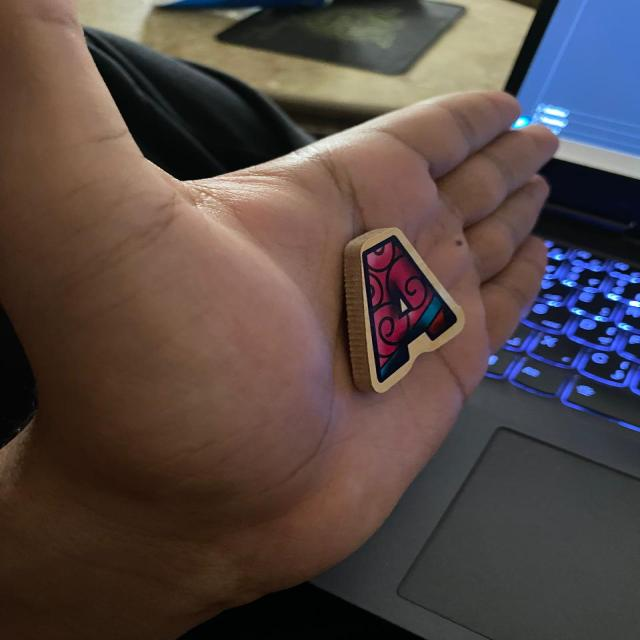A: (344, 229, 464, 393)
